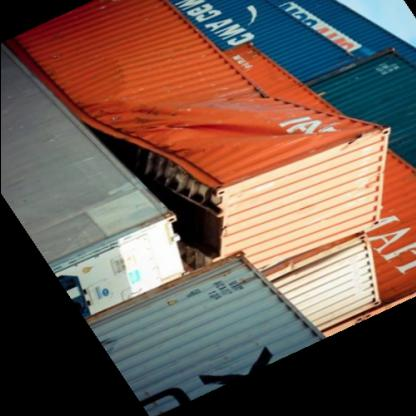Damage: (62, 74, 333, 209)
